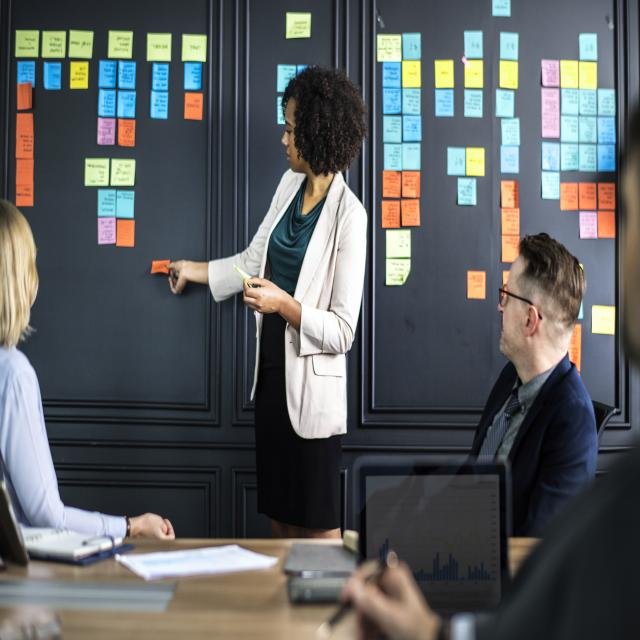adult: (166, 65, 368, 534), (462, 235, 594, 539)
